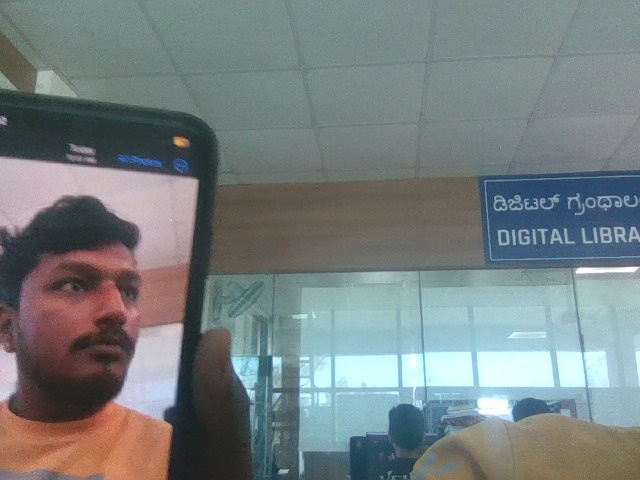fake: (6, 172, 170, 404)
